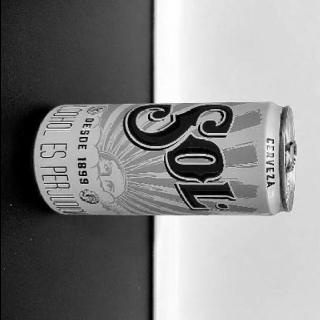alumunium_can: (31, 97, 300, 223)
